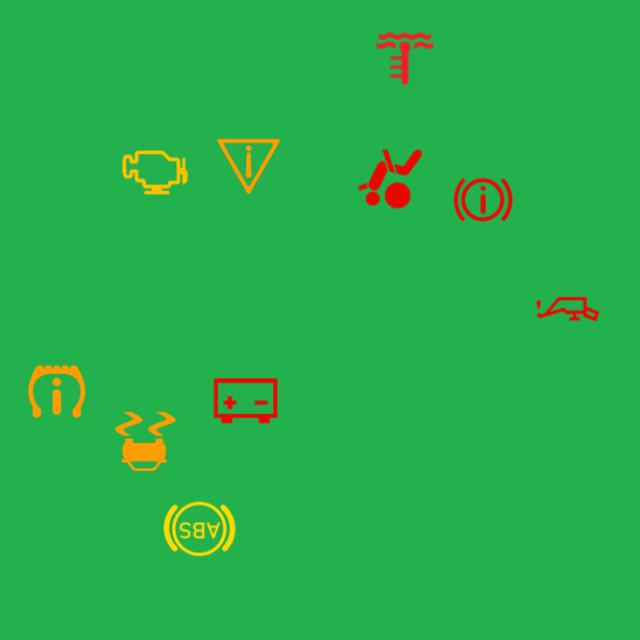Anti Lock Braking System: (160, 490, 238, 568)
Braking System Issue: (444, 160, 522, 238)
Charging System Issue: (207, 362, 284, 440)
Check Engine: (116, 134, 194, 212)
Electronic Stability Problem -ESP-: (106, 402, 184, 480)
Engine Overheating Warning Light: (366, 20, 444, 98)
Low Engine Oil Warning Light: (528, 270, 606, 348)
Low Tire Pressure Warning Light: (18, 352, 96, 430)
Master warning light: (210, 127, 288, 205)
SRS-Airbag: (352, 140, 429, 218)
